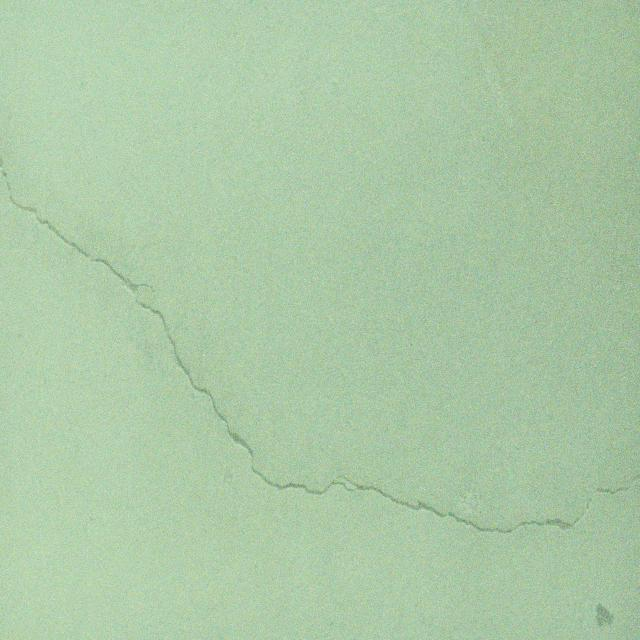crack: (134, 298, 592, 535), (0, 154, 159, 303), (595, 474, 640, 496)
